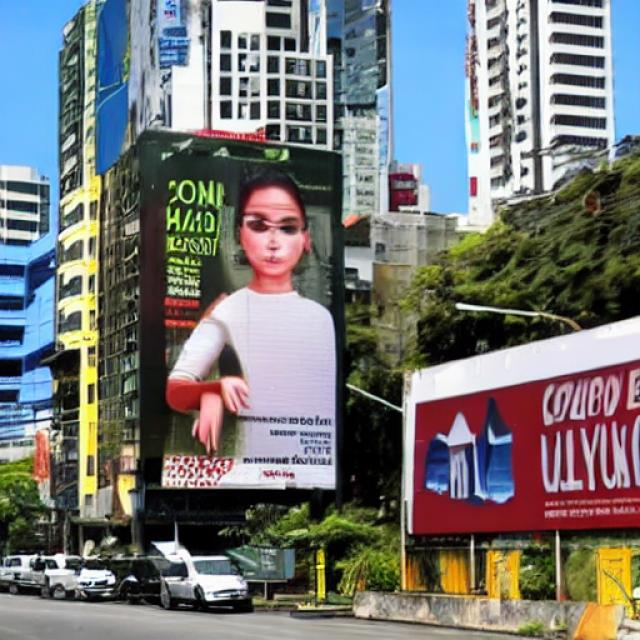Billboard: (146, 127, 344, 496)
